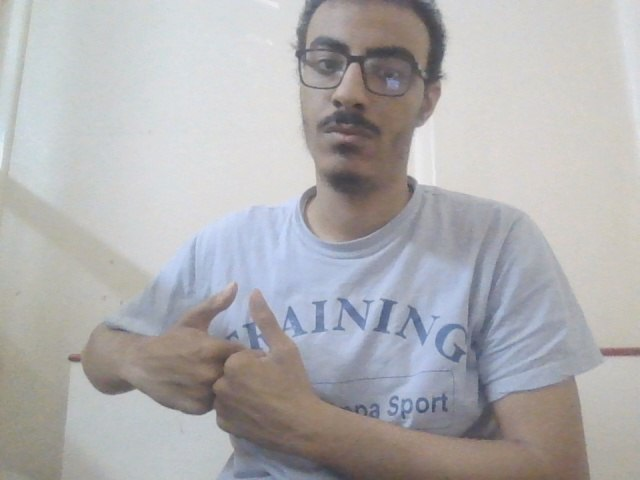Help: (121, 280, 363, 454)
